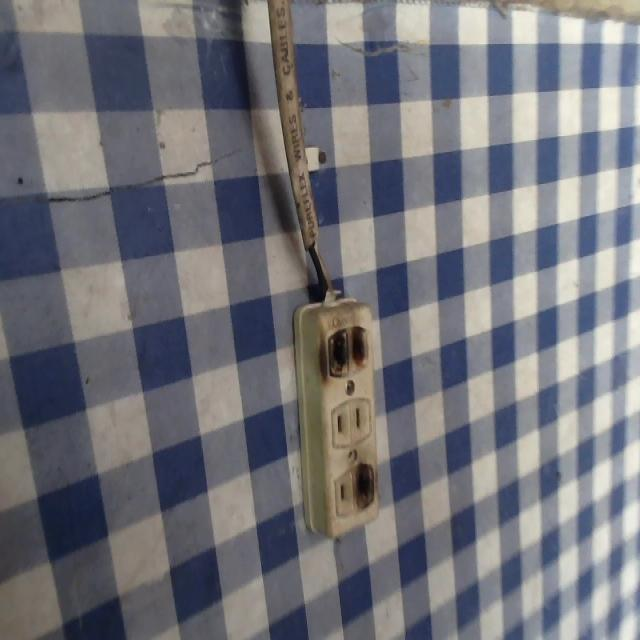-: (320, 321, 369, 379), (350, 457, 375, 512)
